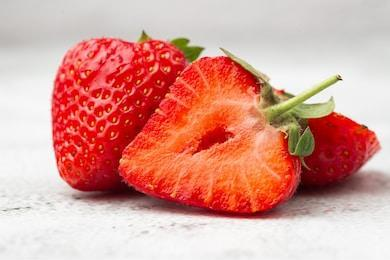Fresa: (47, 33, 196, 203)
